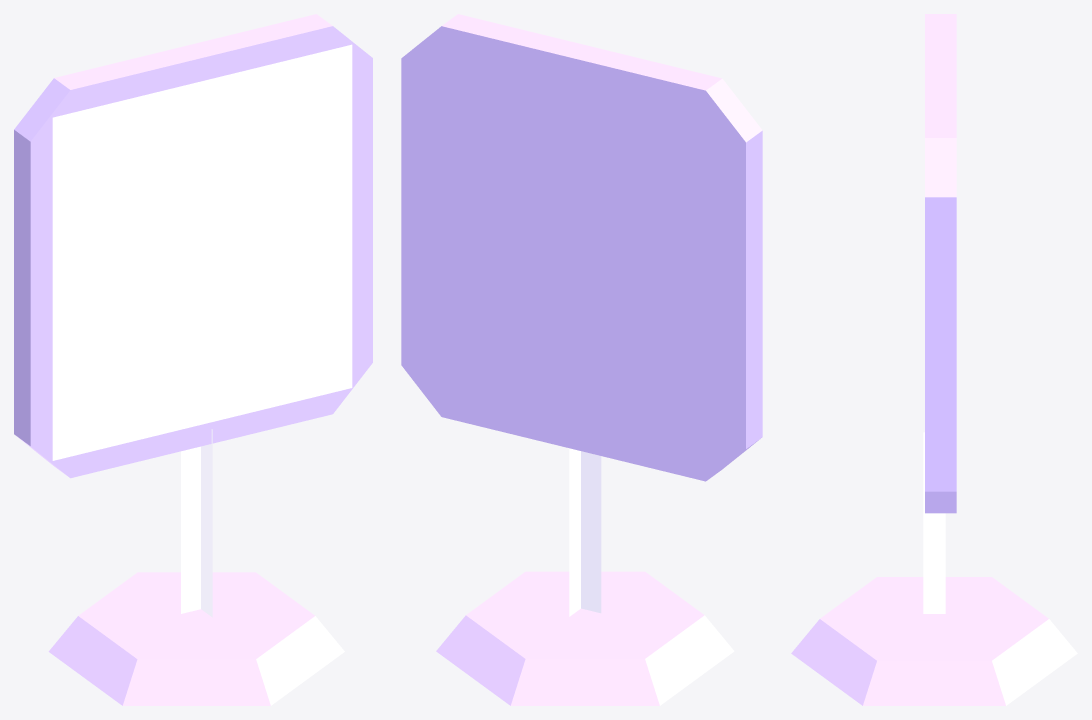
Rendered from mirror-stand-small.glb.
3 renders of one model, left to right at view 1: azimuth 30°, elevation 25°; view 2: azimuth 150°, elevation 25°; view 3: azimuth 270°, elevation 25°, orthographic. The views are drawn at different scales.
Parts seen in each view (by area): view 1: mirror-stand-small; view 2: mirror-stand-small; view 3: mirror-stand-small.
Boxes of the visible parts, box(x1,y1,x2,y2) form: mirror-stand-small: box(14, 14, 372, 705); mirror-stand-small: box(401, 14, 762, 705); mirror-stand-small: box(791, 14, 1077, 705).
Bounding box in the file's own units: 1.2 × 2 × 0.9.
